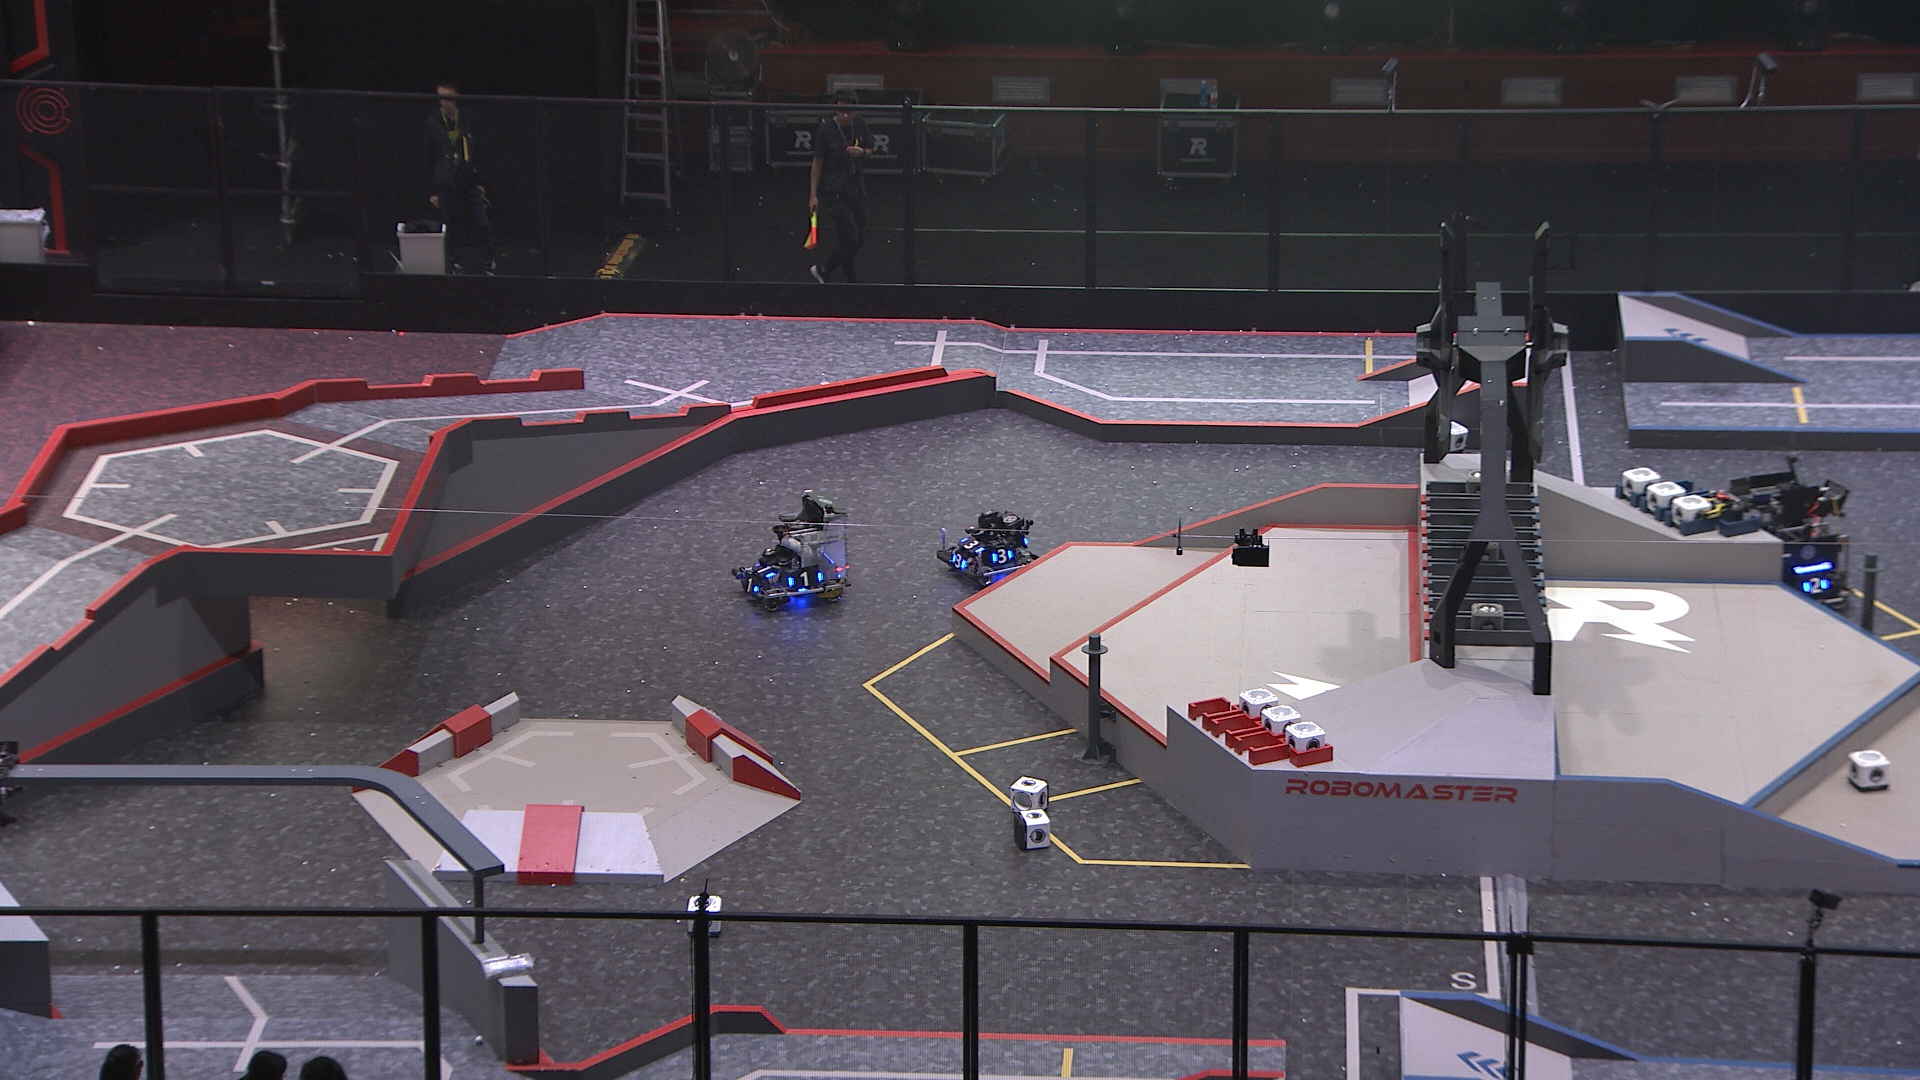armor: (785, 566, 827, 593), (746, 555, 779, 585), (738, 571, 764, 599), (1801, 575, 1832, 597), (957, 531, 982, 556), (988, 547, 1017, 568), (948, 549, 971, 572)
car: (1712, 469, 1854, 612), (731, 488, 851, 611), (931, 505, 1051, 589)
